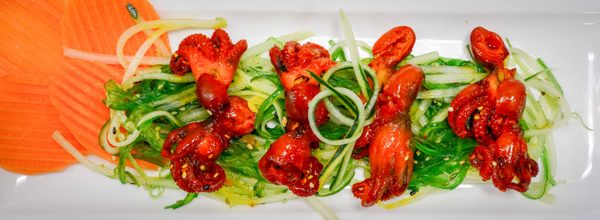curry: (1, 0, 554, 212)
